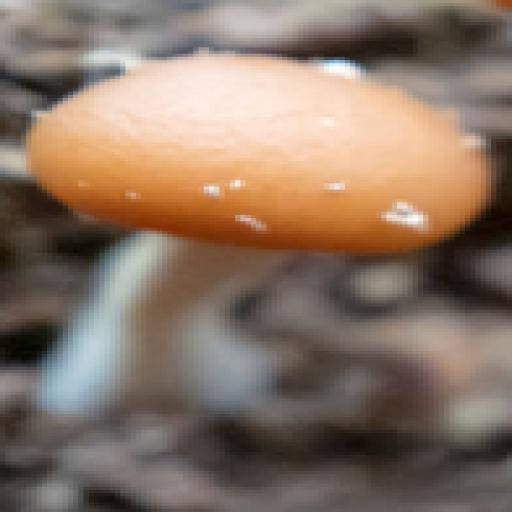Funeral Bell: (18, 48, 504, 417)
